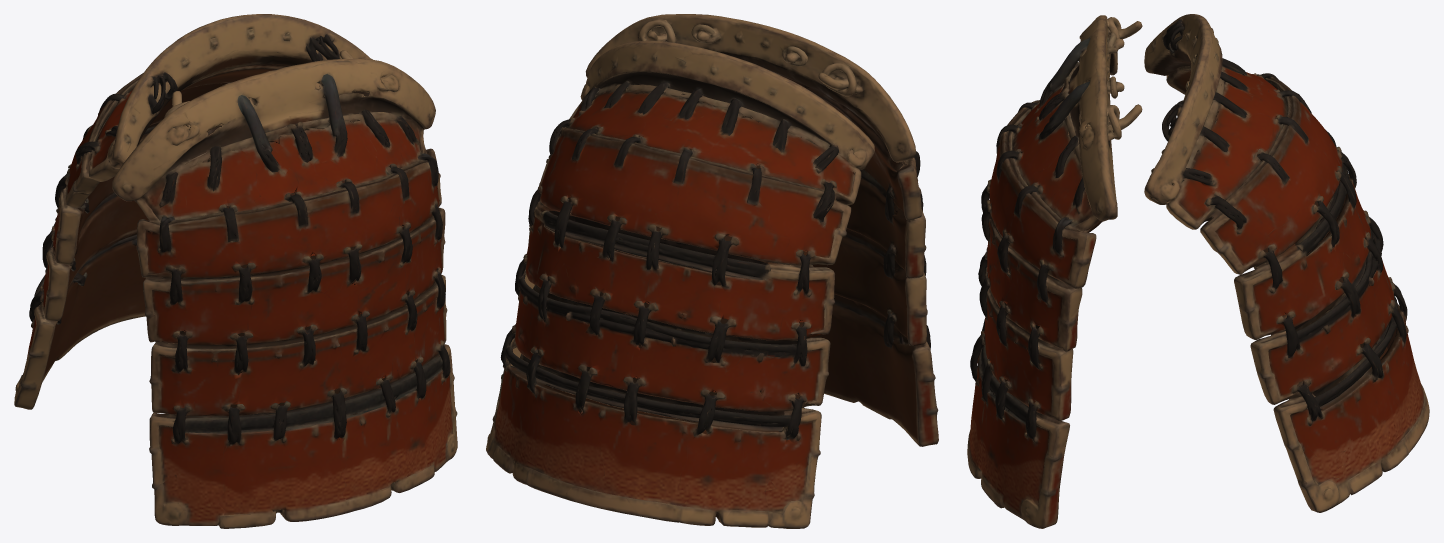
The model's file is sode.glb.
The picture shows the model from 3 angles, left to right: view 1: azimuth 30°, elevation 25°; view 2: azimuth 150°, elevation 25°; view 3: azimuth 270°, elevation 25°; orthographic projection. The views are drawn at different scales.
Visible parts, largest first — view 1: geometry_0; view 2: geometry_0; view 3: geometry_0.
Boxes of the visible parts, bbox=[...] form: geometry_0: bbox=[14, 14, 457, 528]; geometry_0: bbox=[486, 14, 938, 528]; geometry_0: bbox=[967, 14, 1429, 528].
Size of the model in its own units: 0.8208 by 1 by 0.9947.
1 material, 1 textured.
